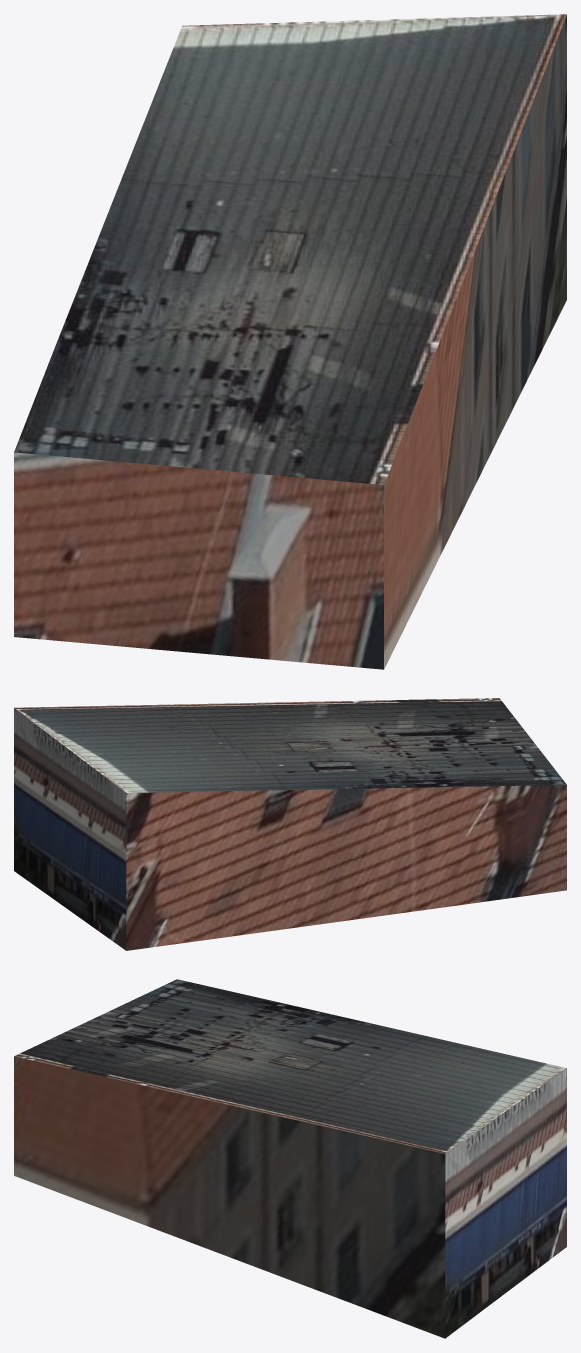
3 views of the same model, one above another, from view 1: azimuth 30°, elevation 25°; view 2: azimuth 150°, elevation 25°; view 3: azimuth 270°, elevation 25° (orthographic). The views are drawn at different scales.
Parts seen in each view (by area): view 1: Z_UP; view 2: Z_UP; view 3: Z_UP.
Boxes of the visible parts, <box> form: Z_UP: <box>14,14,566,669</box>; Z_UP: <box>14,698,566,950</box>; Z_UP: <box>14,979,566,1338</box>.
Bounding box in the file's own units: 17.28 × 6.21 × 16.83.
2 materials, 1 textured.
